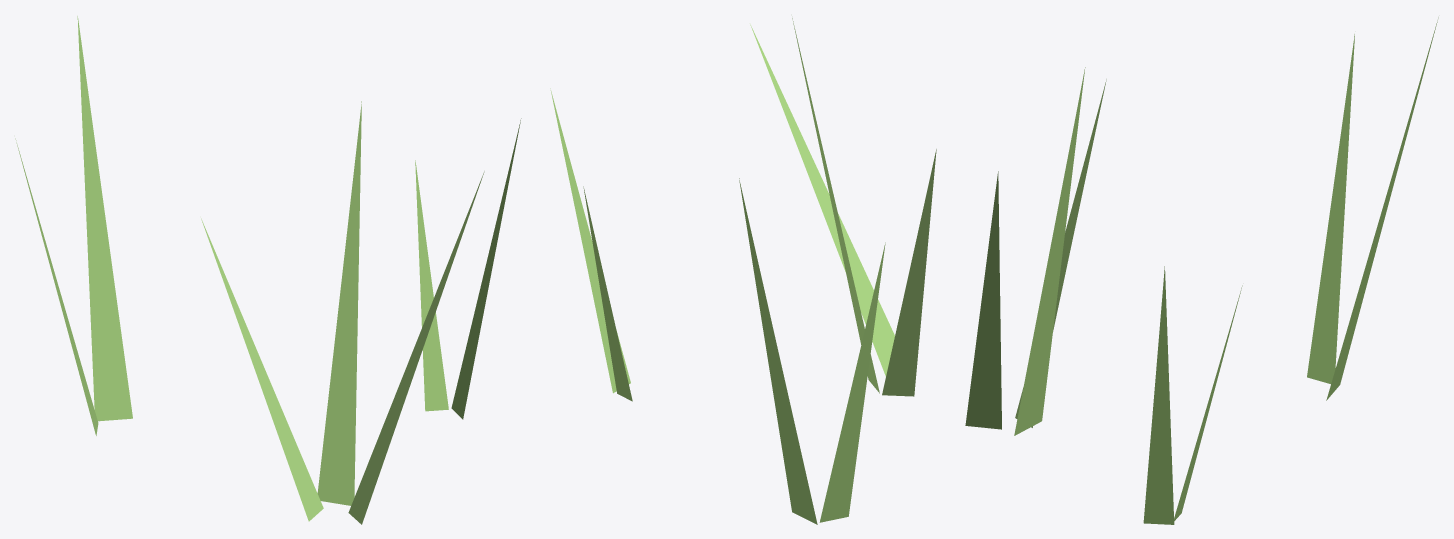
The model's file is Grass_d_TwoS_06.fbx.
3 views of the same model, side by side, from view 1: azimuth 30°, elevation 25°; view 2: azimuth 150°, elevation 25°; view 3: azimuth 270°, elevation 25° (orthographic). The views are drawn at different scales.
Parts seen in each view (by area): view 1: Grass_d_TwoS_06; view 2: Grass_d_TwoS_06; view 3: Grass_d_TwoS_06.
Boxes of the visible parts, left/top/right/bottom form: Grass_d_TwoS_06: left=15, top=16, right=521, bottom=524; Grass_d_TwoS_06: left=550, top=18, right=936, bottom=524; Grass_d_TwoS_06: left=965, top=17, right=1438, bottom=524.
Size of the model in its own units: 50.47 by 43.48 by 47.11.
